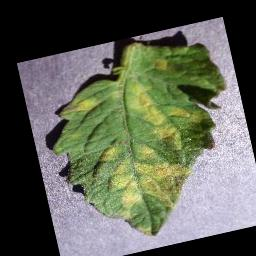Leaf_Mold: (97, 127, 197, 221), (123, 64, 215, 158), (54, 90, 104, 121), (150, 53, 177, 77)
